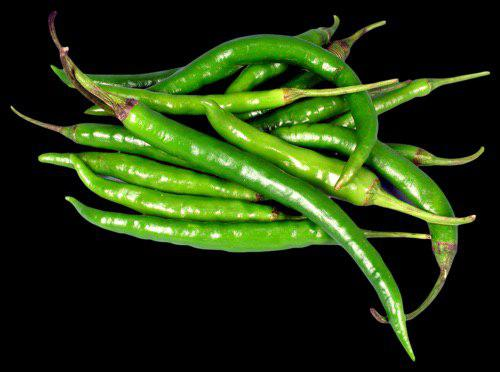lada hijau: (124, 99, 414, 360), (290, 116, 463, 274), (66, 195, 361, 266), (144, 17, 368, 101), (67, 160, 282, 226), (47, 149, 268, 205), (63, 118, 198, 167)
